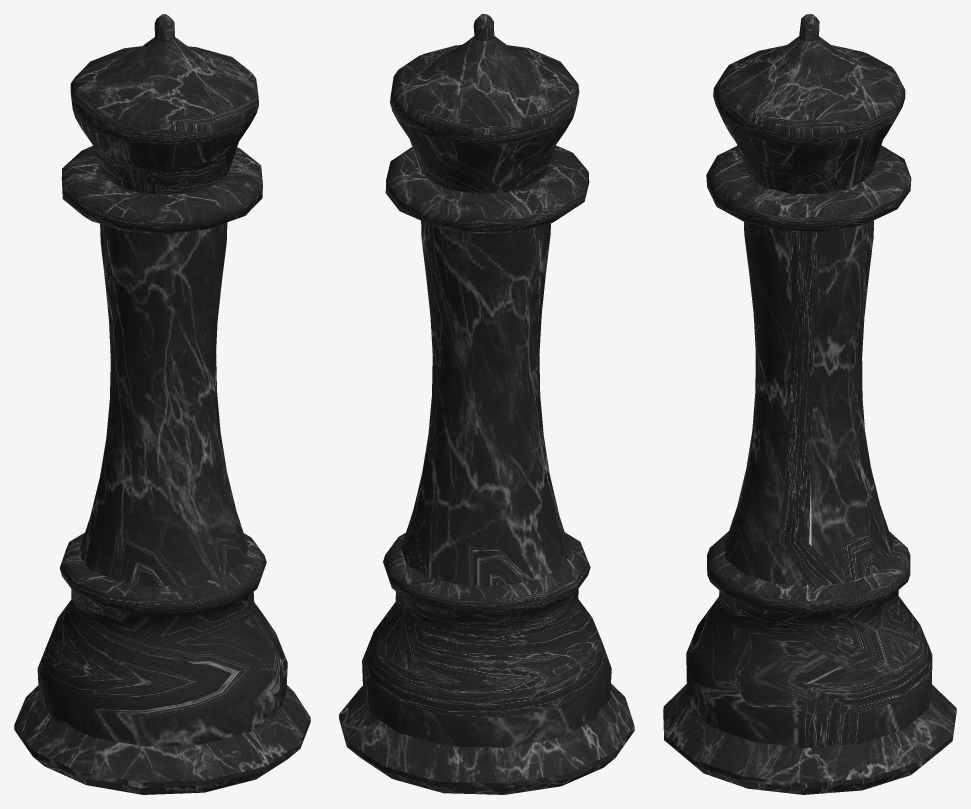
File: bishopblack0.glb
3 views of the same model, side by side, from view 1: azimuth 30°, elevation 25°; view 2: azimuth 150°, elevation 25°; view 3: azimuth 270°, elevation 25° (orthographic).
Size of the model in its own units: 0.7231 by 1.93 by 0.7102.
Materials: 1 (1 with a texture image).
